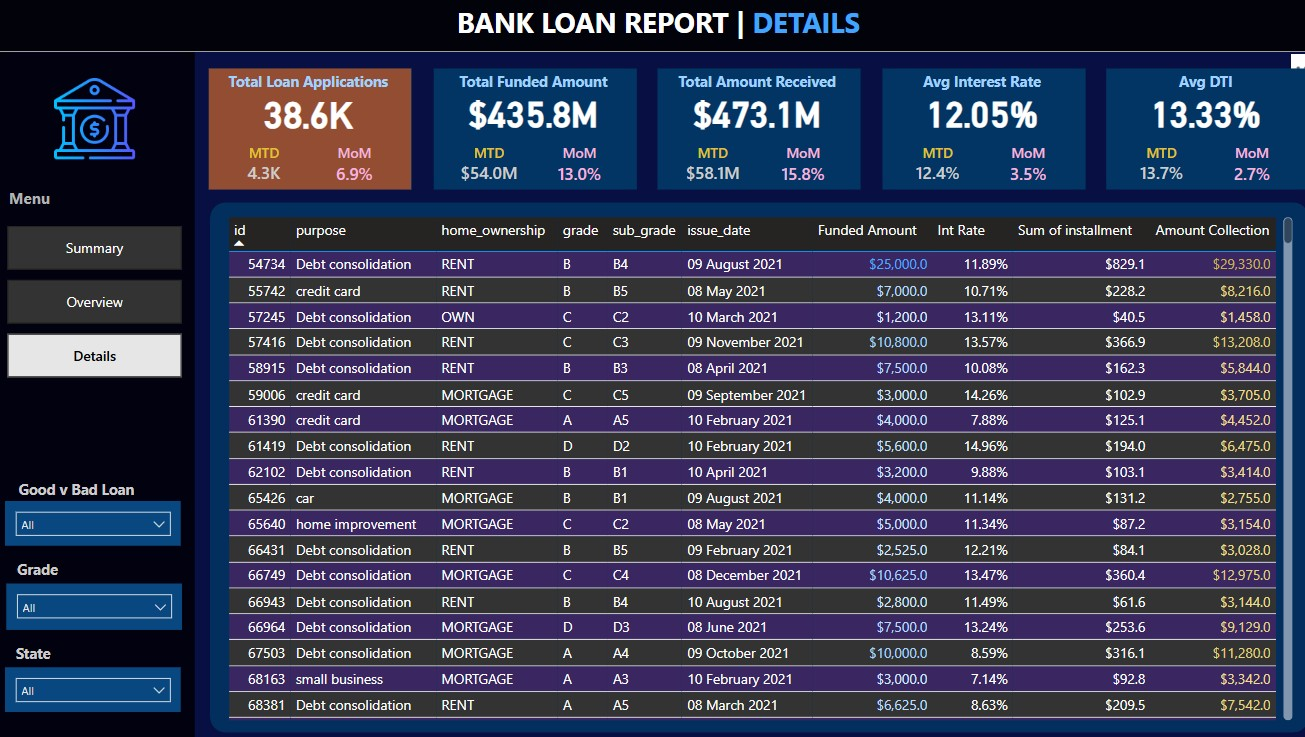

The page's visual inventory and layout, read from the dashboard file:
{"tool":"powerbi","page":{"name":"Details","canvas":[1280,720],"ordinal":2},"visuals":[{"type":"shape","box":[0,0,1280.5,54.6],"z":0},{"type":"group","id":"g1","title":"Group 1","box":[203.1,69.4,199.4,120.6],"z":0,"group":"g7"},{"type":"group","id":"g2","title":"Group 1","box":[419.5,69.4,199.4,120.6],"z":0,"group":"g8"},{"type":"group","id":"g3","title":"Group 1","box":[636,69.4,199.4,120.6],"z":0,"group":"g9"},{"type":"group","id":"g4","title":"Group 1","box":[852.6,69.4,199.4,120.6],"z":0,"group":"g10"},{"type":"group","id":"g5","title":"Group 1","box":[1069.1,69.4,199.4,120.6],"z":0,"group":"g11"},{"type":"textbox","box":[203.6,67.3,199.3,30.8],"z":1000,"group":"g7"},{"type":"textbox","box":[420,67.3,199.3,30.8],"z":1000,"group":"g8"},{"type":"textbox","box":[636.5,67.3,199.3,30.8],"z":1000,"group":"g9"},{"type":"textbox","box":[853.1,67.3,199.3,30.8],"z":1000,"group":"g10"},{"type":"textbox","box":[1069.6,67.3,199.3,30.8],"z":1000,"group":"g11"},{"type":"shape","box":[207,199.6,1060.9,512.2],"z":1000},{"type":"textbox","box":[8.1,461.6,140,35.6],"z":1000,"group":"g16"},{"type":"textbox","box":[9.9,539.5,62.5,32.4],"z":1000,"group":"g17"},{"type":"textbox","box":[1.8,620.6,71.2,29.7],"z":1000,"group":"g18"},{"type":"shape","box":[0,54.6,192.9,665.8],"z":2000},{"type":"shape","box":[0,54.6,192.9,665.8],"z":3000},{"type":"shape","box":[206.5,69.4,195.9,117.2],"z":3000,"group":"g1"},{"type":"shape","box":[422.9,69.4,195.9,117.2],"z":3000,"group":"g2"},{"type":"shape","box":[639.4,69.4,195.9,117.2],"z":3000,"group":"g3"},{"type":"shape","box":[856,69.4,195.9,117.2],"z":3000,"group":"g4"},{"type":"shape","box":[1072.5,69.4,195.9,117.2],"z":3000,"group":"g5"},{"type":"textbox","box":[403,2.1,474.5,45.6],"z":4000},{"type":"group","id":"g6","title":"Group 3","box":[203.1,67.3,199.8,123.3],"z":7000},{"type":"group","id":"g7","title":"Group 2","box":[203.1,67.3,199.8,122.6],"z":7000,"group":"g6"},{"type":"group","id":"g8","title":"Group 2","box":[419.5,67.3,199.8,122.6],"z":7000,"group":"g12"},{"type":"group","id":"g9","title":"Group 2","box":[636,67.3,199.8,122.6],"z":7000,"group":"g13"},{"type":"group","id":"g10","title":"Group 2","box":[852.6,67.3,199.8,122.6],"z":7000,"group":"g14"},{"type":"group","id":"g11","title":"Group 2","box":[1069.1,67.3,199.8,122.6],"z":7000,"group":"g15"},{"type":"group","id":"g12","title":"Group 3","box":[419.5,67.3,199.9,123.3],"z":8000},{"type":"card","fields":{"Values":["financial_loan.Total Loan Applications"]},"box":[203.1,88.3,199.3,45.5],"z":8000,"group":"g1"},{"type":"card","fields":{"Values":["financial_loan.Total Loan Amount"]},"box":[419.5,88.3,199.3,45.5],"z":8000,"group":"g2"},{"type":"card","fields":{"Values":["financial_loan.Total Amount Collection"]},"box":[636,88.3,199.3,45.5],"z":8000,"group":"g3"},{"type":"card","fields":{"Values":["financial_loan.Avg Interest Rate"]},"box":[852.6,88.3,199.3,45.5],"z":8000,"group":"g4"},{"type":"card","fields":{"Values":["financial_loan.Avg DTI"]},"box":[1069.1,88.3,199.3,45.5],"z":8000,"group":"g5"},{"type":"card","title":"MoM","fields":{"Values":["financial_loan.YOY Loan Applications"]},"box":[303.6,141.9,88.1,48.7],"z":8000,"group":"g6"},{"type":"card","title":"MoM","fields":{"Values":["financial_loan.YOY Loan Amount"]},"box":[520,141.9,88.1,48.7],"z":8000,"group":"g12"},{"type":"card","title":"MoM","fields":{"Values":["financial_loan.YOY Loan Collection"]},"box":[736.5,141.9,88.1,48.7],"z":8000,"group":"g13"},{"type":"card","title":"MoM","fields":{"Values":["financial_loan.YOY Int Rate"]},"box":[953.1,141.9,88.1,48.7],"z":8000,"group":"g14"},{"type":"card","title":"MoM","fields":{"Values":["financial_loan.YOY DTI"]},"box":[1169.6,141.9,88.1,48.7],"z":8000,"group":"g15"},{"type":"group","id":"g13","title":"Group 3","box":[636,67.3,199.9,123.3],"z":9000},{"type":"card","title":"MTD","fields":{"Values":["financial_loan.MTD Applications"]},"box":[209.8,142,99.3,48],"z":9000,"group":"g1"},{"type":"card","title":"MTD","fields":{"Values":["financial_loan.MTD Loan Amount"]},"box":[426.2,142,99.3,48],"z":9000,"group":"g2"},{"type":"card","title":"MTD","fields":{"Values":["financial_loan.MTD Loan Collection"]},"box":[642.7,142,99.3,48],"z":9000,"group":"g3"},{"type":"card","title":"MTD","fields":{"Values":["financial_loan.MTD Avg Int Rate"]},"box":[859.3,142,99.3,48],"z":9000,"group":"g4"},{"type":"card","title":"MTD","fields":{"Values":["financial_loan.MTD Avg DTI"]},"box":[1075.8,142,99.3,48],"z":9000,"group":"g5"},{"type":"group","id":"g14","title":"Group 3","box":[852.6,67.3,199.9,123.3],"z":10000},{"type":"group","id":"g15","title":"Group 3","box":[1069.1,67.3,199.9,123.3],"z":11000},{"type":"image","box":[26.8,69.2,138.4,99.3],"z":12000},{"type":"slicer","fields":{"Values":["financial_loan.Good v Bad Loan"]},"box":[10.1,487,169.7,43],"z":13000},{"type":"slicer","fields":{"Values":["financial_loan.grade"]},"box":[10.4,566.7,169.9,44.5],"z":14000},{"type":"slicer","fields":{"Values":["financial_loan.address_state"]},"box":[10,647.3,169.9,43.5],"z":15000},{"type":"group","id":"g16","title":"Group 2","box":[8.1,461.6,140,35.6],"z":16000},{"type":"group","id":"g17","title":"Group 2","box":[9.9,539.5,62.5,32.4],"z":17000},{"type":"group","id":"g18","title":"Group 2","box":[1.8,620.6,71.2,29.7],"z":18000},{"type":"pageNavigator","box":[11.9,221.9,168.5,147.2],"z":19000},{"type":"textbox","box":[8.3,180.3,157.5,34.2],"z":20000},{"type":"tableEx","fields":{"Values":["financial_loan.id","financial_loan.purpose","financial_loan.home_ownership","financial_loan.grade","financial_loan.sub_grade","financial_loan.issue_date","financial_loan.Total Funded Amount","Sum(financial_loan.int_rate)","Sum(financial_loan.installment)","financial_loan.Total Amount Collection"]},"box":[219.6,209.3,1038,495.2],"z":21000}]}

Visuals, with their boxes in screenshot pixels (x1, y1, x2, y2), scaled from the page's 1280x720 canvas onto the 1305x737 screenshot:
shape: select_region(0, 0, 1304, 56)
"Group 1" group: select_region(207, 71, 410, 194)
"Group 1" group: select_region(428, 71, 631, 194)
"Group 1" group: select_region(648, 71, 852, 194)
"Group 1" group: select_region(869, 71, 1073, 194)
"Group 1" group: select_region(1090, 71, 1293, 194)
textbox: select_region(208, 69, 411, 100)
textbox: select_region(428, 69, 631, 100)
textbox: select_region(649, 69, 852, 100)
textbox: select_region(870, 69, 1073, 100)
textbox: select_region(1090, 69, 1294, 100)
shape: select_region(211, 204, 1293, 729)
textbox: select_region(8, 472, 151, 509)
textbox: select_region(10, 552, 74, 585)
textbox: select_region(2, 635, 74, 666)
shape: select_region(0, 56, 197, 736)
shape: select_region(0, 56, 197, 736)
shape: select_region(211, 71, 410, 191)
shape: select_region(431, 71, 631, 191)
shape: select_region(652, 71, 852, 191)
shape: select_region(873, 71, 1072, 191)
shape: select_region(1093, 71, 1293, 191)
textbox: select_region(411, 2, 895, 49)
"Group 3" group: select_region(207, 69, 411, 195)
"Group 2" group: select_region(207, 69, 411, 194)
"Group 2" group: select_region(428, 69, 631, 194)
"Group 2" group: select_region(648, 69, 852, 194)
"Group 2" group: select_region(869, 69, 1073, 194)
"Group 2" group: select_region(1090, 69, 1294, 194)
"Group 3" group: select_region(428, 69, 631, 195)
card - financial_loan.Total Loan Applications: select_region(207, 90, 410, 137)
card - financial_loan.Total Loan Amount: select_region(428, 90, 631, 137)
card - financial_loan.Total Amount Collection: select_region(648, 90, 852, 137)
card - financial_loan.Avg Interest Rate: select_region(869, 90, 1072, 137)
card - financial_loan.Avg DTI: select_region(1090, 90, 1293, 137)
"MoM" card: select_region(310, 145, 399, 195)
"MoM" card: select_region(530, 145, 620, 195)
"MoM" card: select_region(751, 145, 841, 195)
"MoM" card: select_region(972, 145, 1062, 195)
"MoM" card: select_region(1192, 145, 1282, 195)
"Group 3" group: select_region(648, 69, 852, 195)
"MTD" card: select_region(214, 145, 315, 194)
"MTD" card: select_region(435, 145, 536, 194)
"MTD" card: select_region(655, 145, 756, 194)
"MTD" card: select_region(876, 145, 977, 194)
"MTD" card: select_region(1097, 145, 1198, 194)
"Group 3" group: select_region(869, 69, 1073, 195)
"Group 3" group: select_region(1090, 69, 1294, 195)
image: select_region(27, 71, 168, 172)
slicer - financial_loan.Good v Bad Loan: select_region(10, 498, 183, 543)
slicer - financial_loan.grade: select_region(11, 580, 184, 626)
slicer - financial_loan.address_state: select_region(10, 663, 183, 707)
"Group 2" group: select_region(8, 472, 151, 509)
"Group 2" group: select_region(10, 552, 74, 585)
"Group 2" group: select_region(2, 635, 74, 666)
pageNavigator: select_region(12, 227, 184, 378)
textbox: select_region(8, 185, 169, 220)
tableEx - financial_loan.id x financial_loan.purpose: select_region(224, 214, 1282, 721)
